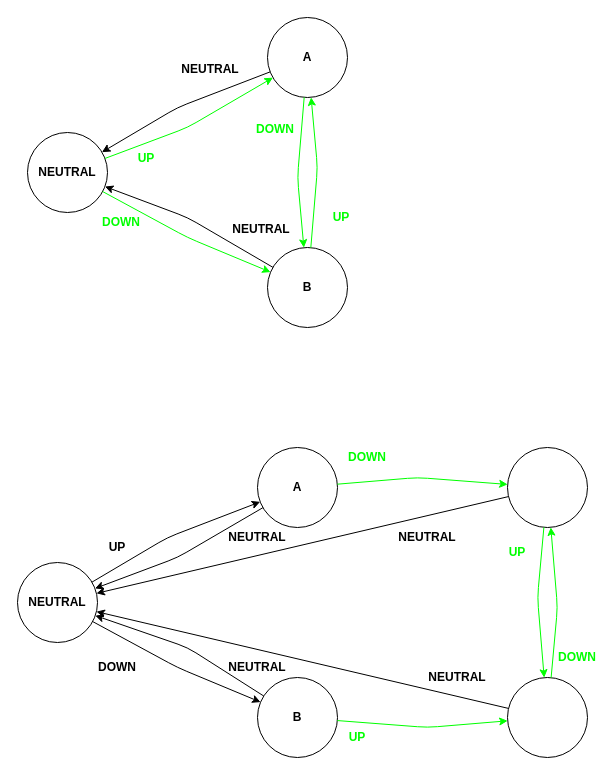
Image size: 615x775. Some labels were removed from this diagram. Each missing label, with the centre of its shape:
A_B: the point at 547,487
B_A: the point at 547,717
